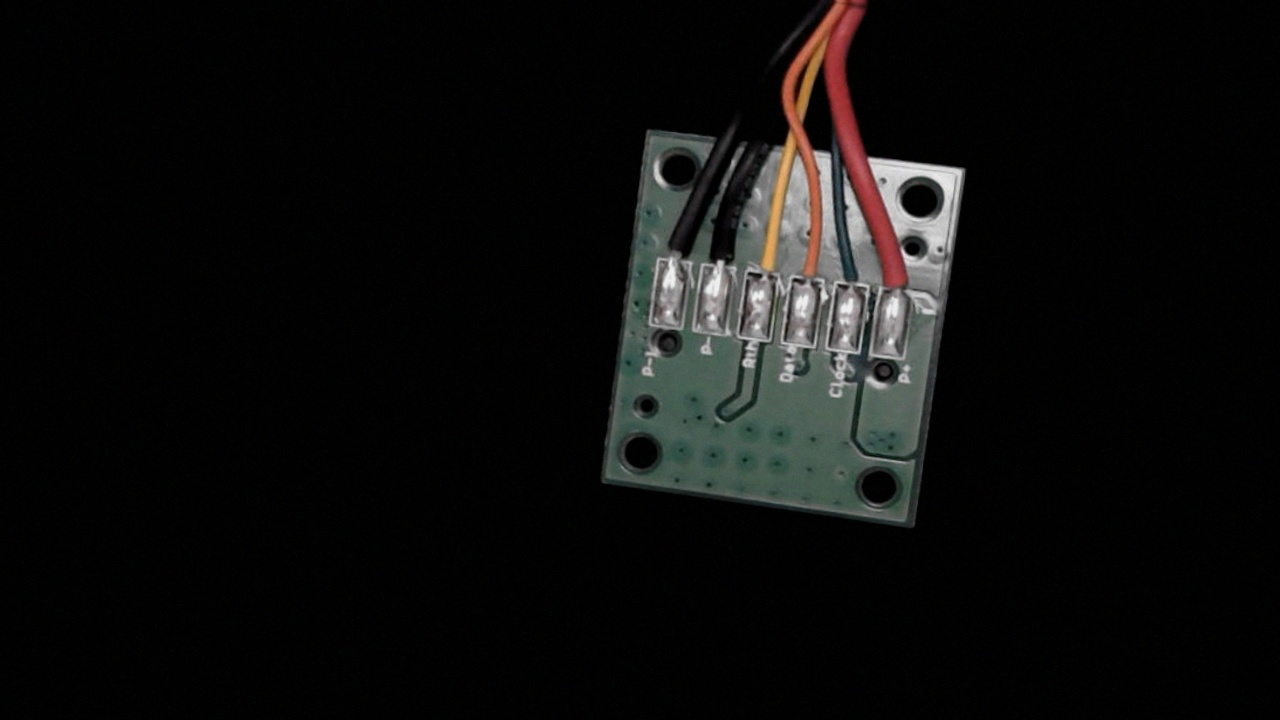Black: (697, 201, 749, 288)
Black1: (649, 202, 699, 282)
Green: (831, 239, 877, 309)
Orange: (784, 224, 834, 303)
Red: (871, 230, 924, 313)
Yellow: (741, 206, 794, 294)
